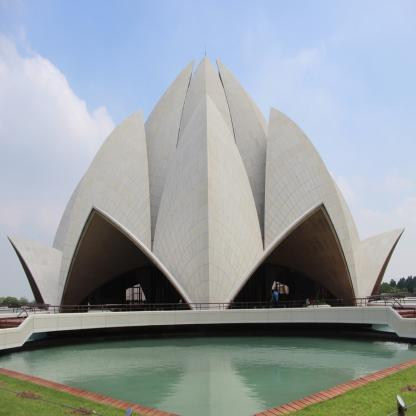Building Outline: (7, 55, 405, 314)
Dont: (306, 298, 331, 307), (271, 288, 279, 308)
Door Hole: (61, 213, 191, 313), (228, 209, 356, 309)
Facade: (75, 191, 341, 313)
Glass Wall: (74, 261, 341, 309)
Roof: (7, 55, 405, 314)
